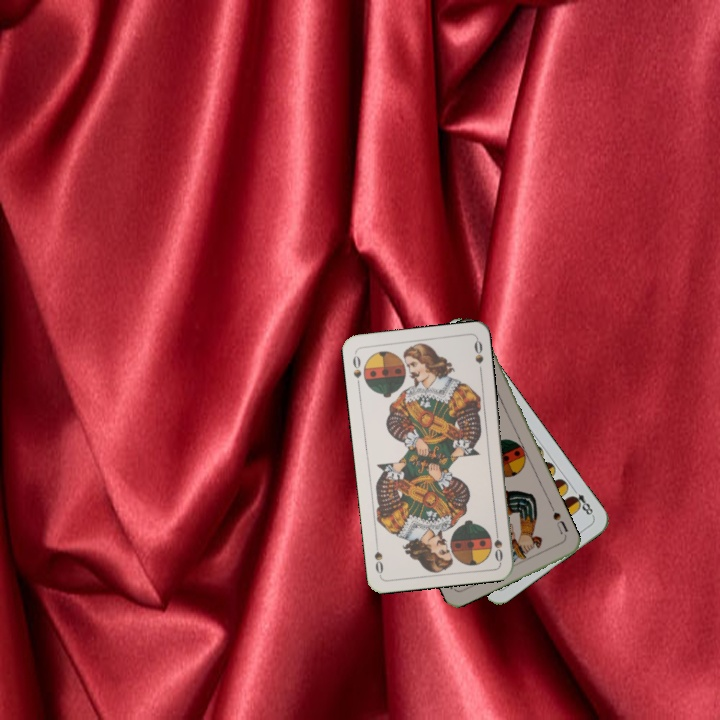E8: (566, 484, 596, 519)
SO: (348, 349, 364, 390), (490, 524, 505, 564)
SU: (549, 508, 571, 537)
